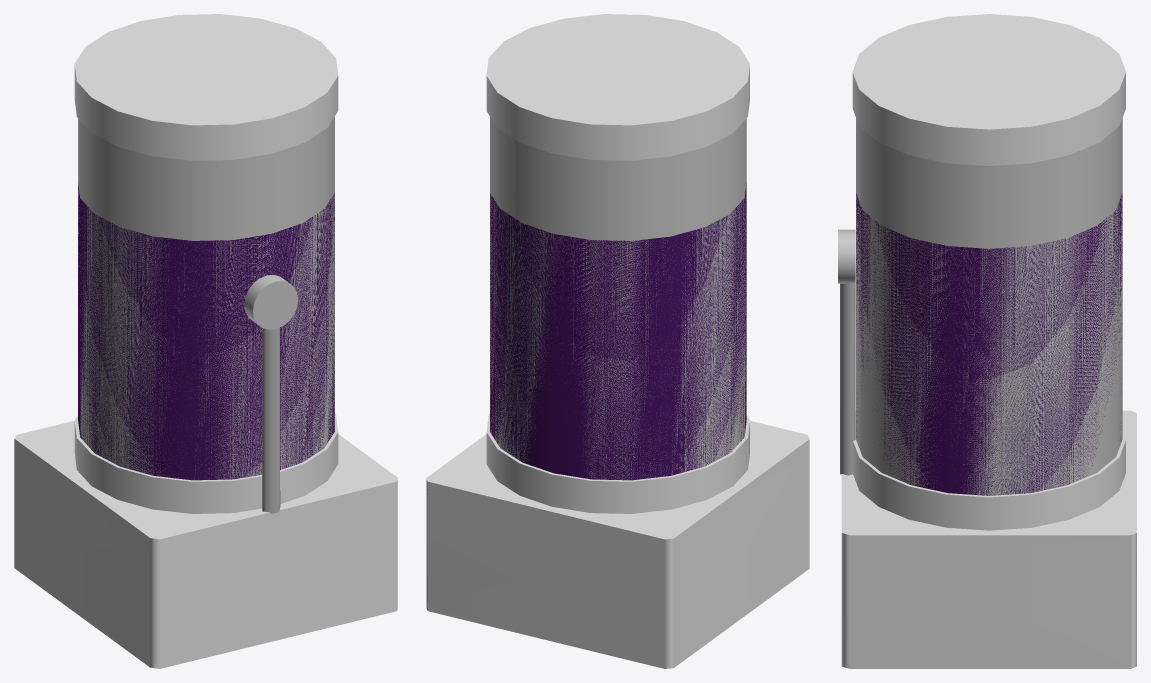
The model's file is tank_WithLiquid_WithGauge.fbx.
The picture shows the model from 3 angles, left to right: view 1: azimuth 30°, elevation 25°; view 2: azimuth 150°, elevation 25°; view 3: azimuth 270°, elevation 25°; orthographic projection. The views are drawn at different scales.
Visible parts, largest first — view 1: TankBottom, tankMid, innerTankMesh, tankLid, tankBase, gaugeBase, gaugeFace; view 2: innerTankMesh, TankBottom, tankMid, tankLid, tankBase; view 3: tankMid, innerTankMesh, TankBottom, tankLid, tankBase, gaugeBase, gaugeFace.
Boxes of the visible parts, bbox=[...] form: TankBottom: bbox=[14, 420, 397, 668]; tankMid: bbox=[78, 116, 334, 480]; innerTankMesh: bbox=[78, 184, 334, 480]; tankLid: bbox=[74, 14, 338, 160]; tankBase: bbox=[74, 413, 338, 513]; gaugeBase: bbox=[262, 327, 280, 513]; gaugeFace: bbox=[244, 275, 298, 329]; innerTankMesh: bbox=[490, 183, 746, 480]; TankBottom: bbox=[426, 420, 809, 668]; tankMid: bbox=[490, 117, 746, 479]; tankLid: bbox=[486, 14, 749, 160]; tankBase: bbox=[486, 413, 749, 513]; tankMid: bbox=[856, 118, 1122, 495]; innerTankMesh: bbox=[856, 193, 1122, 495]; TankBottom: bbox=[841, 410, 1136, 668]; tankLid: bbox=[852, 14, 1125, 165]; tankBase: bbox=[853, 431, 1125, 530]; gaugeBase: bbox=[840, 283, 855, 475]; gaugeFace: bbox=[838, 229, 855, 283].
Size of the model in its own units: 1 by 2 by 1.01.
